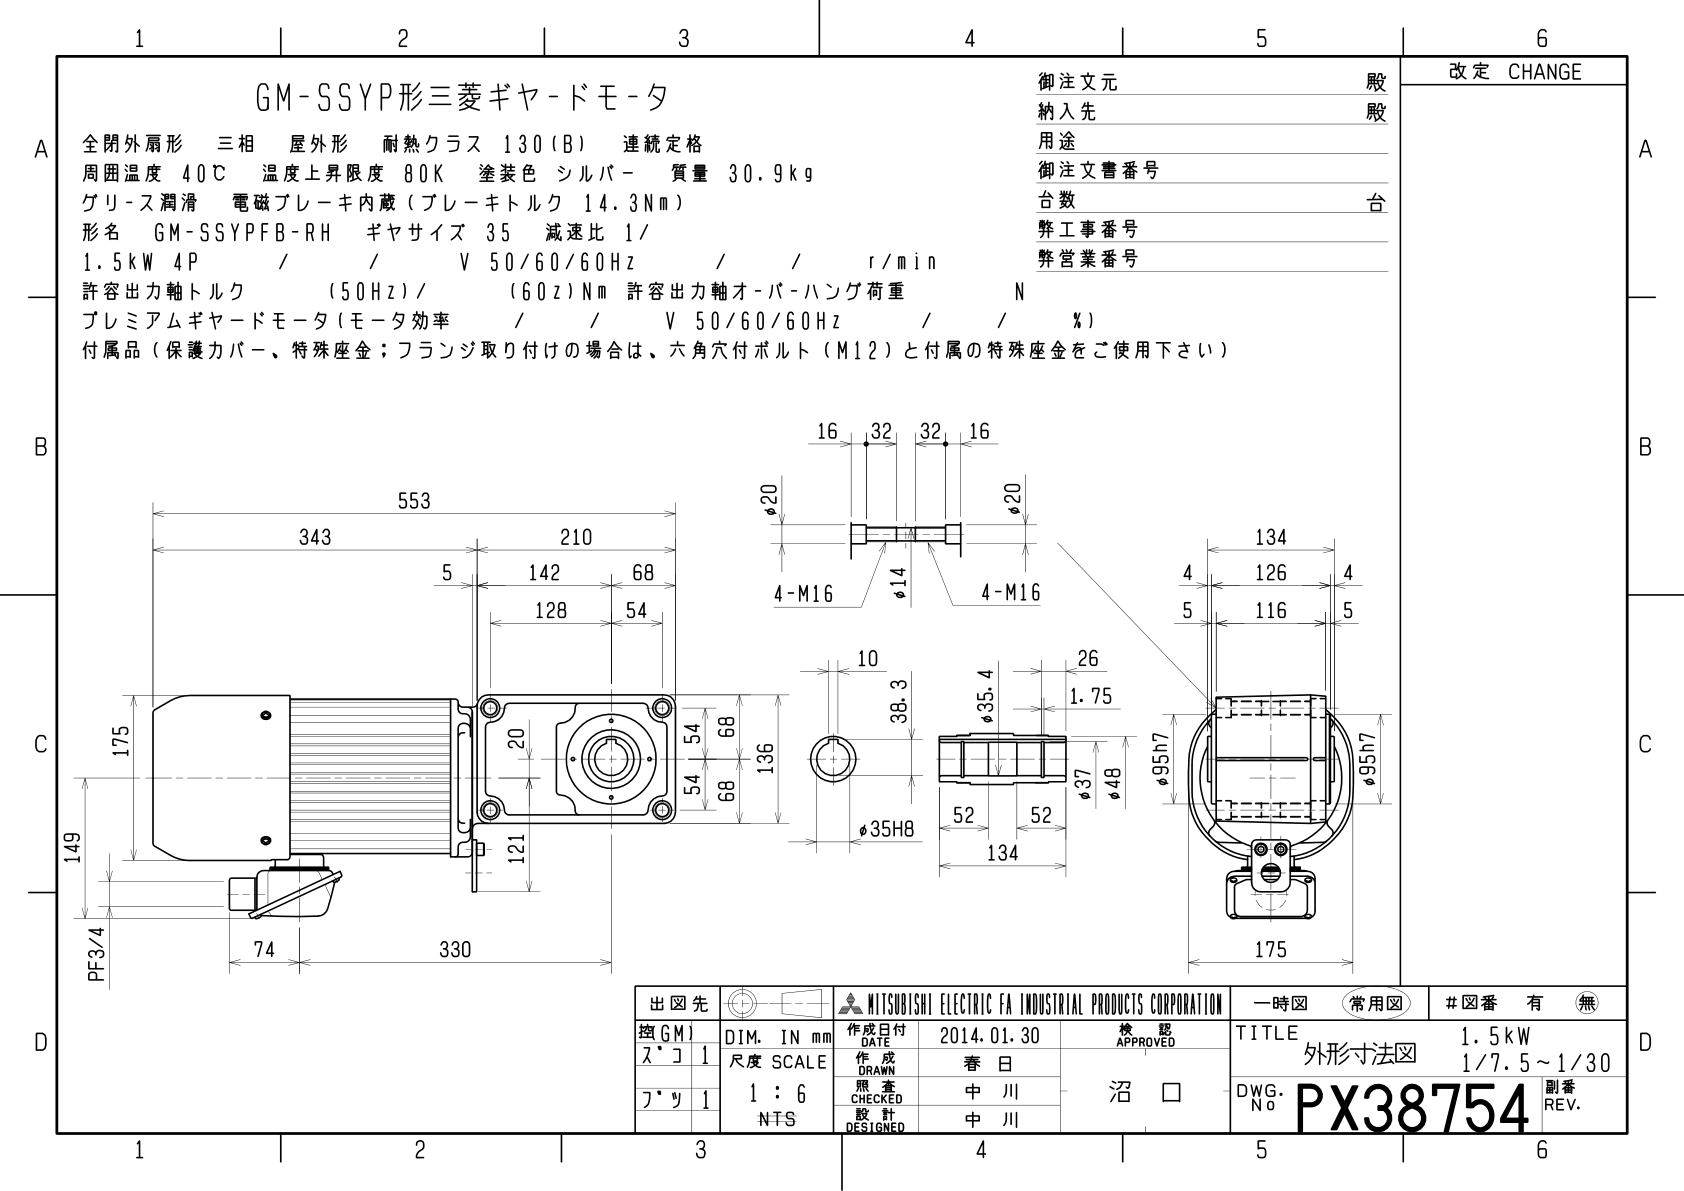GM_SSYP_屋外_三相: (55, 410, 1389, 978)
